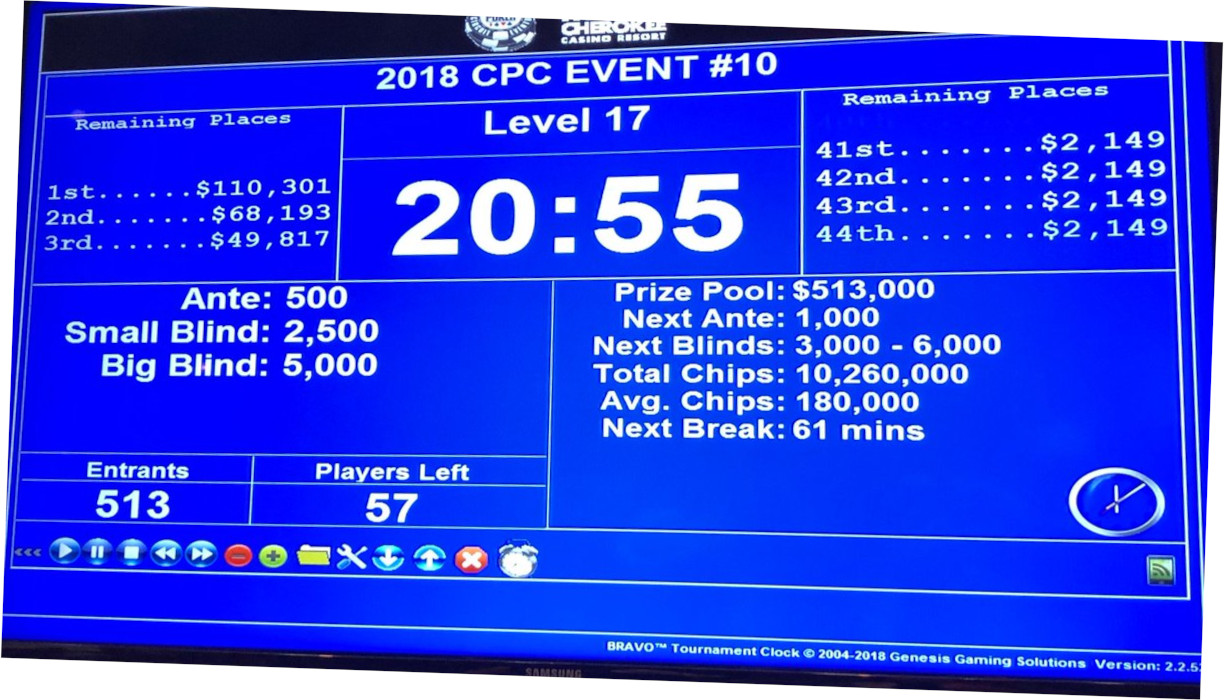PlayersLeft: (247, 447, 552, 532)
Remaining: (794, 74, 1182, 278), (35, 104, 347, 286)
TournamentClock: (40, 50, 1188, 548)
